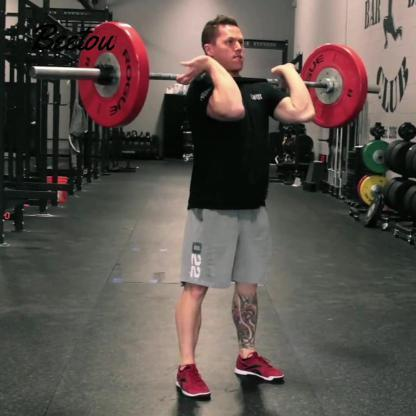Barbell: (29, 66, 40, 81)
